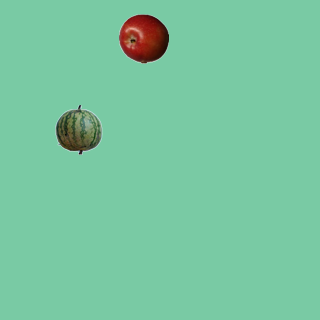Apple Braeburn: (118, 13, 168, 63)
Watermelon: (53, 104, 103, 154)
